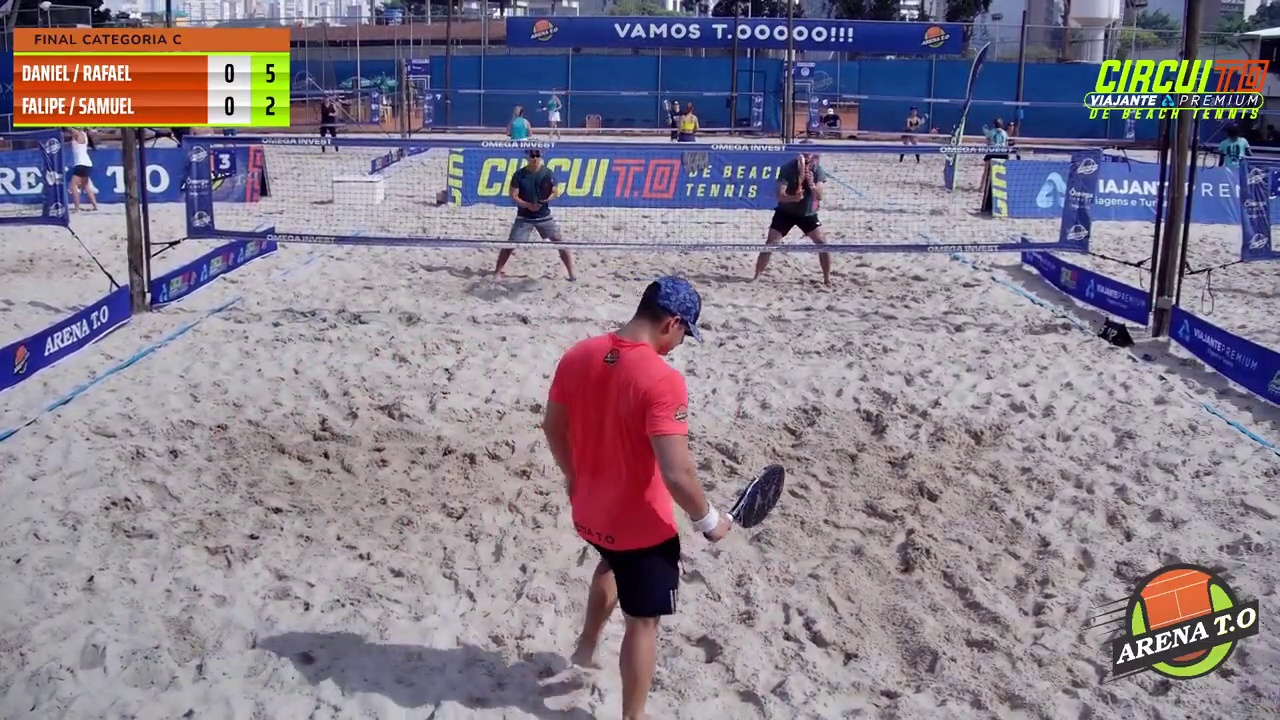court_line: (629, 0, 814, 516), (547, 0, 685, 480), (448, 0, 583, 486)
